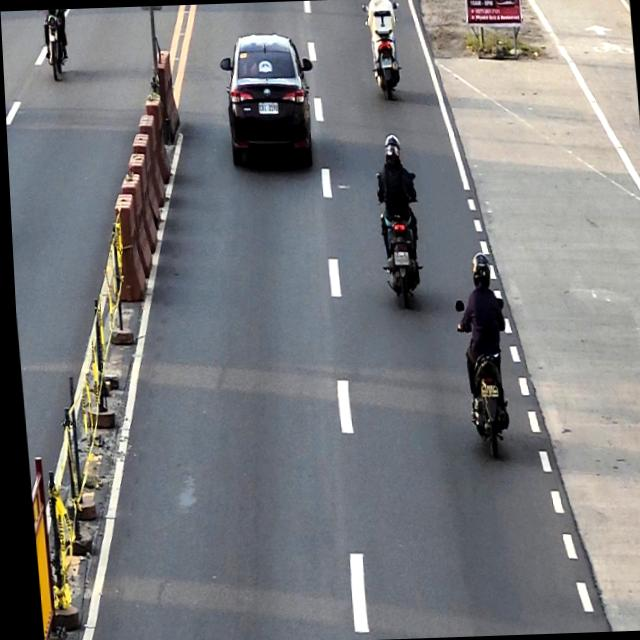Car: (217, 33, 320, 174)
License-Plate: (475, 383, 495, 398), (257, 102, 277, 115), (392, 251, 406, 266), (380, 58, 391, 68)
Motorcycle: (450, 296, 512, 461), (373, 168, 424, 312), (361, 1, 406, 100), (40, 8, 68, 82)
